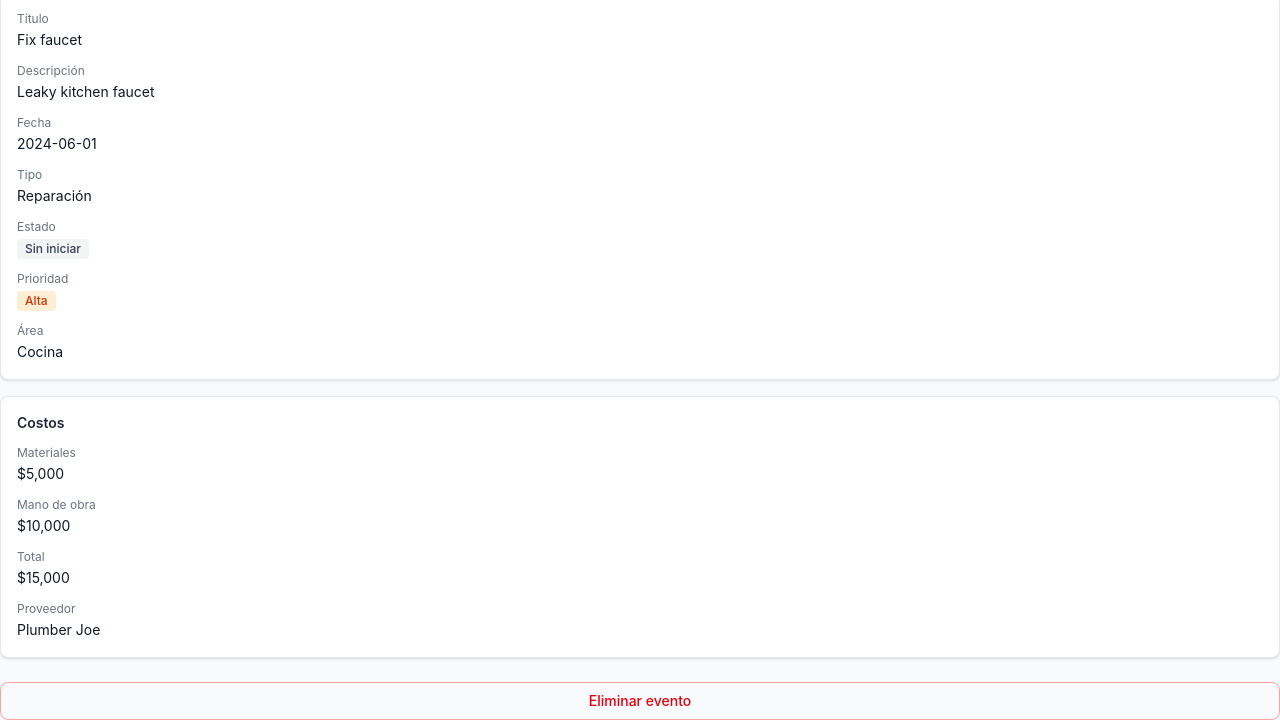
DetalleEventoPage › should show delete confirmation when delete button is clicked
Click the button "Eliminar evento": (640, 701) [0,682,1279,719]
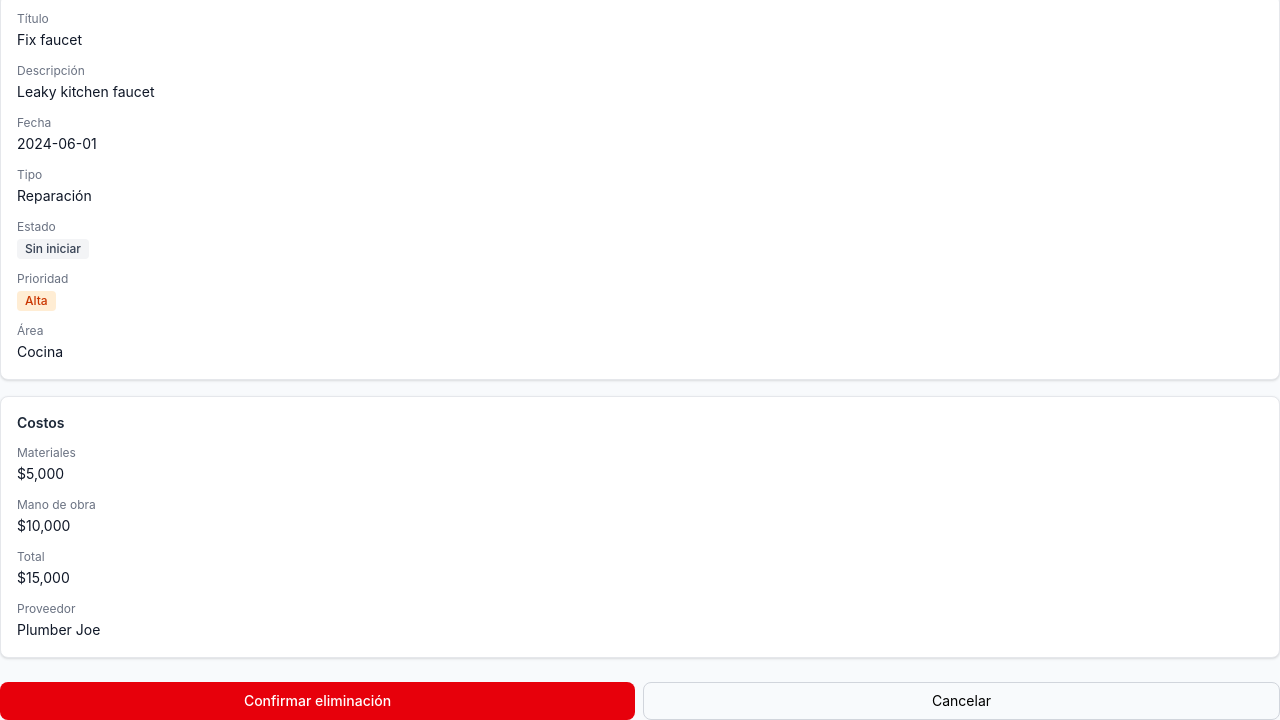
Expected: the button "Confirmar eliminación" is shown, [0,682,635,719]
Expected: the button "Cancelar" is shown, [643,682,1279,719]
